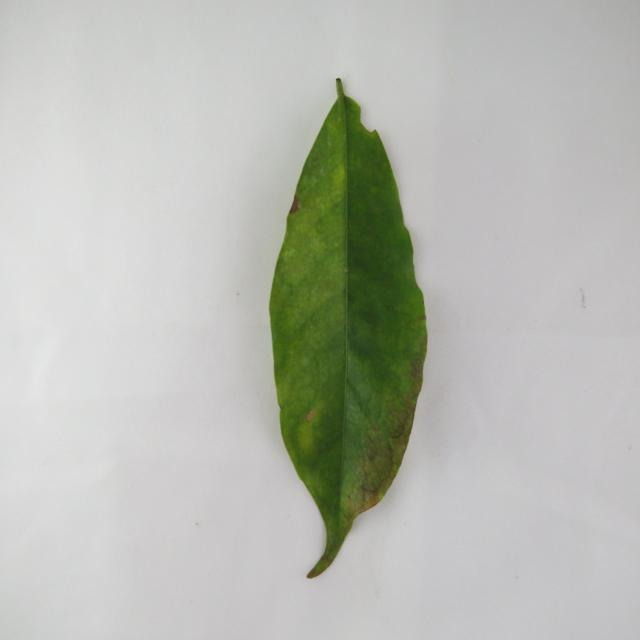DeficienciaNutricional-Manganeso: (270, 80, 428, 578)
